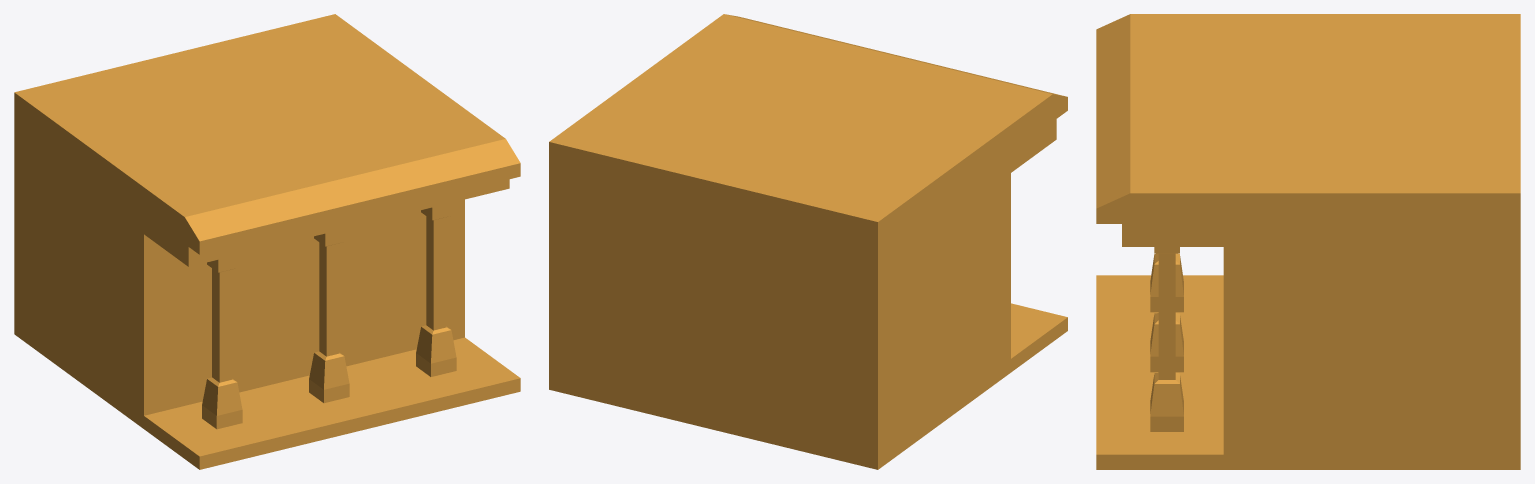
The model's file is india-hindu-wall-interior-side.glb.
3 views of the same model, side by side, from view 1: azimuth 30°, elevation 25°; view 2: azimuth 150°, elevation 25°; view 3: azimuth 270°, elevation 25° (orthographic). The views are drawn at different scales.
Visible parts, largest first — view 1: hindu-wall-interior-side; view 2: hindu-wall-interior-side; view 3: hindu-wall-interior-side.
Boxes of the visible parts, x1,y1,x2,y2 form: hindu-wall-interior-side: (14,14,520,469); hindu-wall-interior-side: (549,14,1067,469); hindu-wall-interior-side: (1096,14,1520,469).
Bounding box in the file's own units: 5 × 3.6 × 5.
